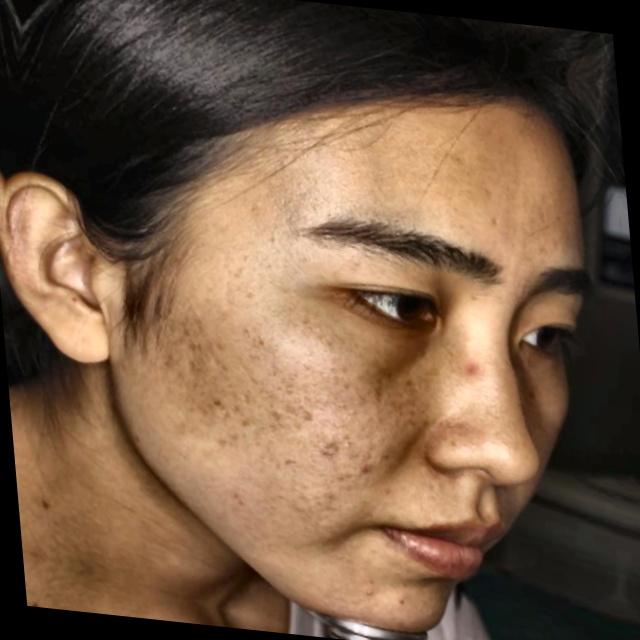comedone: (453, 356, 495, 399)
